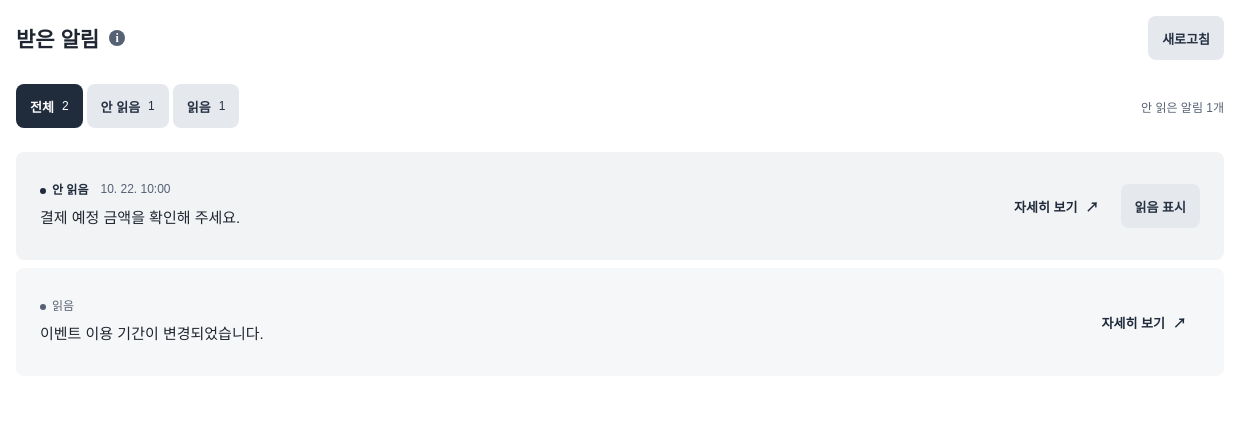
Test case: personal workspace notices › does not change unread status if the read request fails
This screenshot has width=1241, height=445.
Step 1. Click the button "읽음 표시" → (1160, 206), box [1120,184,1200,228]
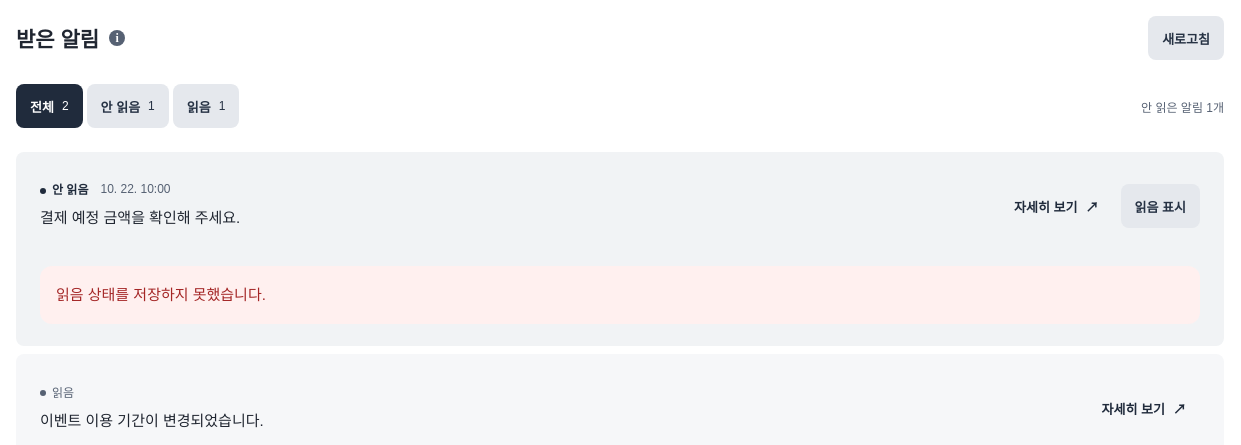
Expected: the text "안 읽은 알림 1개" is shown, [1141,98,1224,114]
Expected: the message reads "읽음 상태를 저장하지 못했습니다.", [56,286,266,303]
